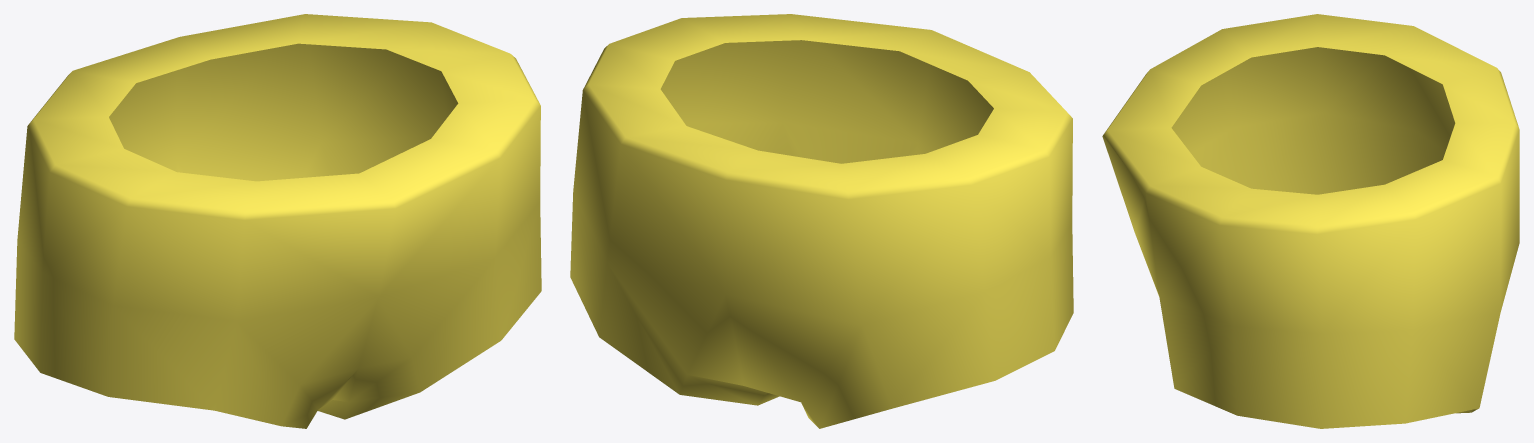
The model's file is Pants_Yellow_001.glb.
3 views of the same model, side by side, from view 1: azimuth 30°, elevation 25°; view 2: azimuth 150°, elevation 25°; view 3: azimuth 270°, elevation 25° (orthographic). The views are drawn at different scales.
Visible parts, largest first — view 1: Pants_Yellow_001; view 2: Pants_Yellow_001; view 3: Pants_Yellow_001.
Part boxes in pixels (x1,y1,x2,y2): Pants_Yellow_001: (14, 14, 541, 428); Pants_Yellow_001: (570, 14, 1073, 428); Pants_Yellow_001: (1102, 14, 1519, 428).
Bounding box in the file's own units: 0.4529 × 0.2677 × 0.3561.
1 material, 1 textured.
